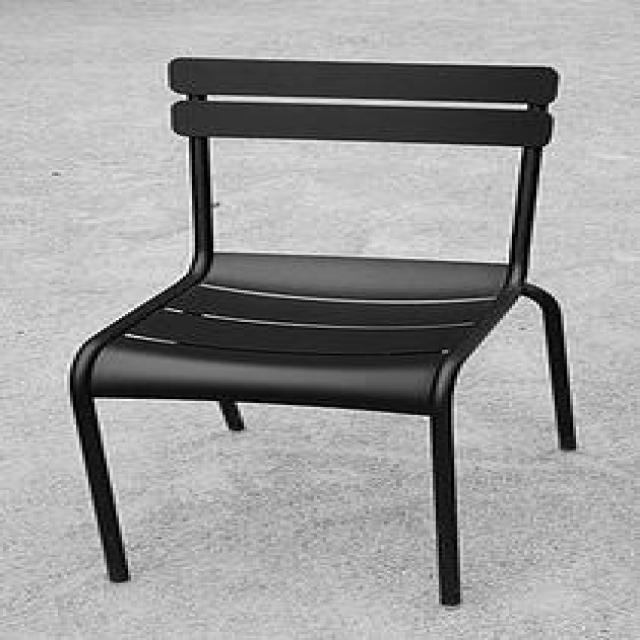chair: (67, 54, 579, 606)
